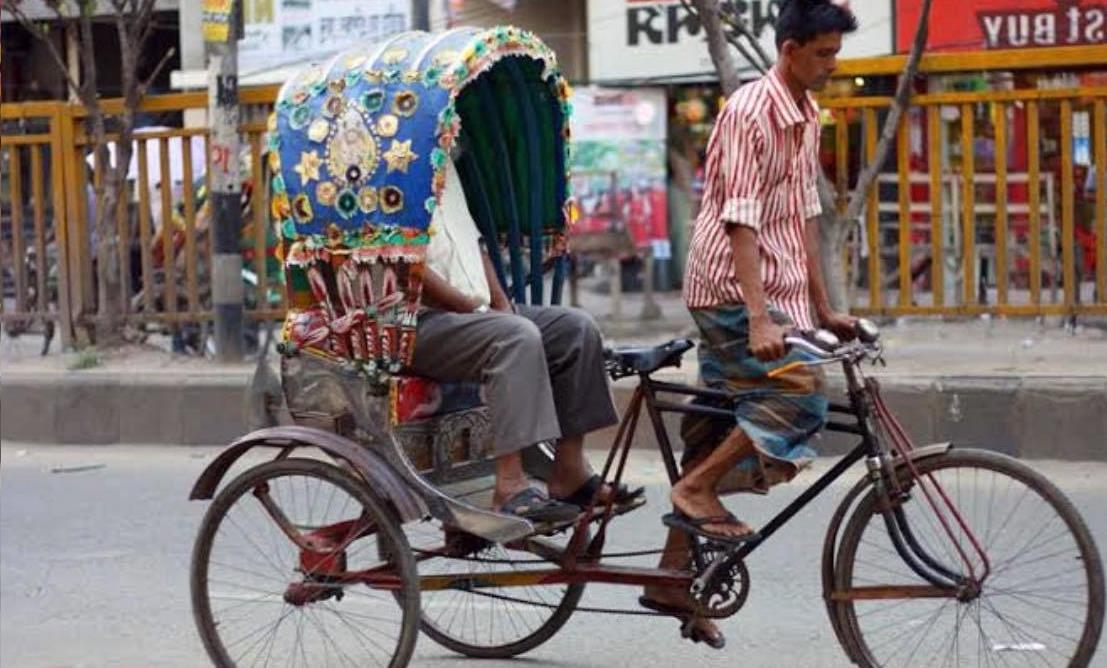Rickshaw: (215, 11, 1092, 614)
